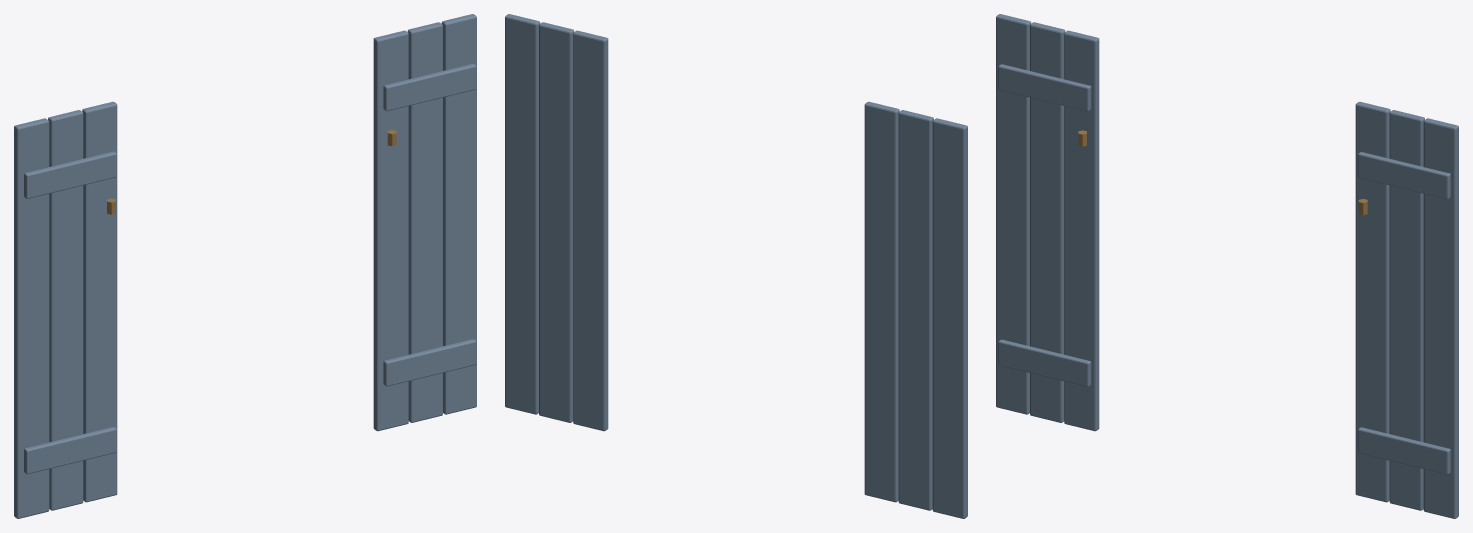
File: SM_Kit_Shutters_Board.glb
3 views of the same model, side by side, from view 1: azimuth 30°, elevation 25°; view 2: azimuth 150°, elevation 25°; view 3: azimuth 330°, elevation 25° (orthographic).
Visible parts, largest first — view 1: SM_Kit_Shutters_Board; view 2: SM_Kit_Shutters_Board; view 3: SM_Kit_Shutters_Board.
Boxes of the visible parts, <box> form: SM_Kit_Shutters_Board: <box>14,14,476,518</box>; SM_Kit_Shutters_Board: <box>505,14,967,518</box>; SM_Kit_Shutters_Board: <box>996,14,1458,518</box>.
Bounding box in the file's own units: 1.57 × 1.28 × 0.058.
